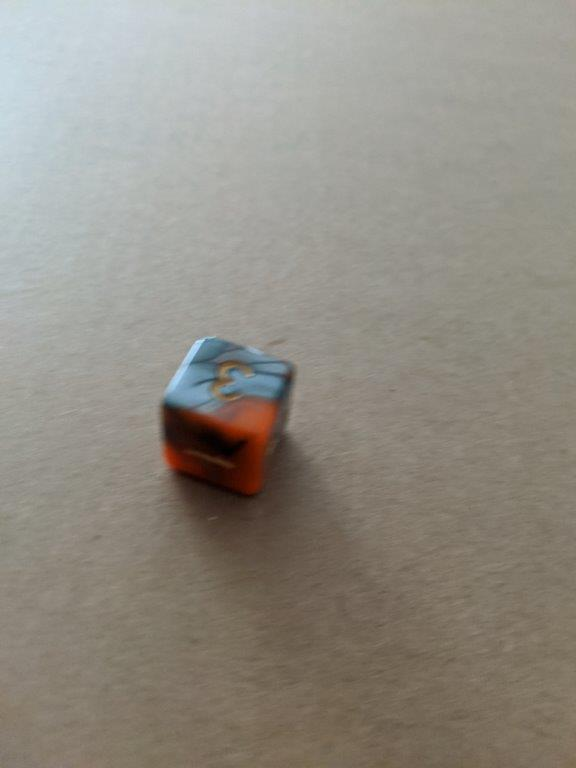d6-3: (160, 333, 296, 496)
